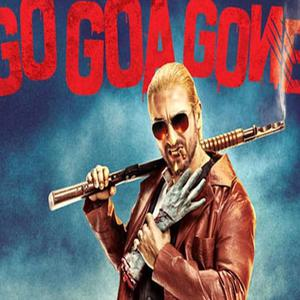cigarette: (179, 149, 189, 165)
